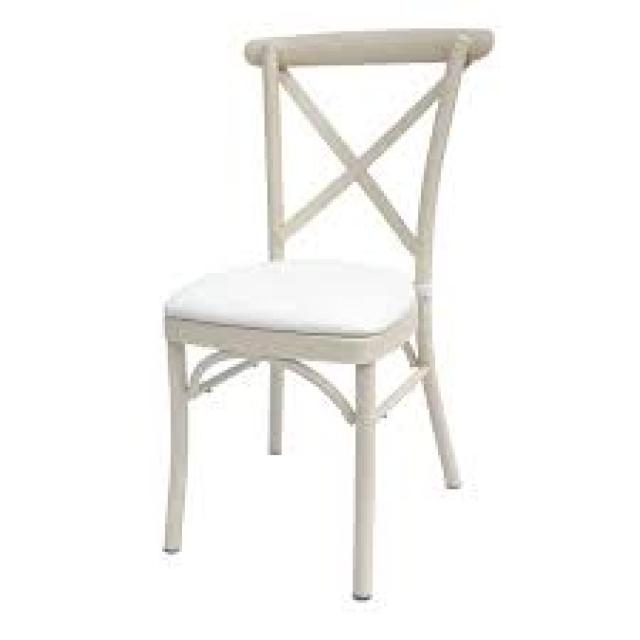bottle: (155, 25, 472, 598)
